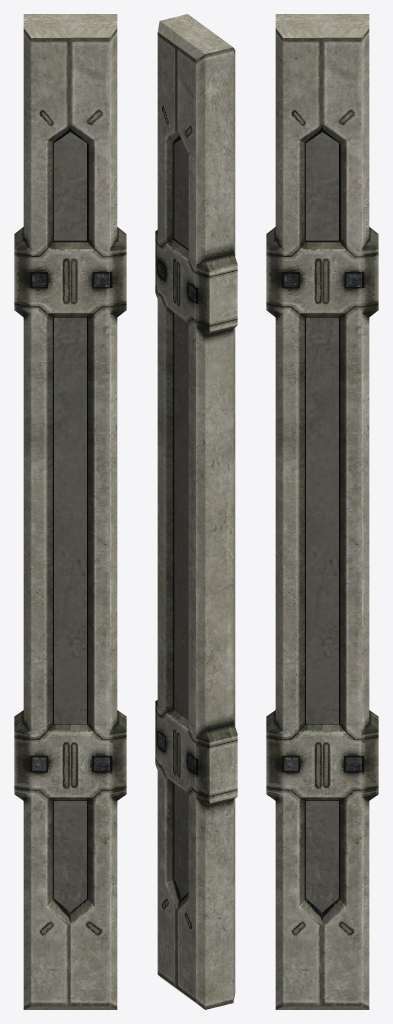
The model's file is catwalk_white_girder.dae.
3 renders of one model, left to right at view 1: azimuth 90°, elevation 25°; view 2: azimuth 210°, elevation 25°; view 3: azimuth 270°, elevation 25°, orthographic. The views are drawn at different scales.
Visible parts, largest first — view 1: polySurface13; view 2: polySurface13; view 3: polySurface13.
Boxes of the visible parts, left/top/right/bottom form: polySurface13: left=14, top=14, right=126, bottom=1009; polySurface13: left=155, top=14, right=237, bottom=1009; polySurface13: left=266, top=14, right=378, bottom=1009.
Bounding box in the file's own units: 0.1721 × 4 × 0.4135.
